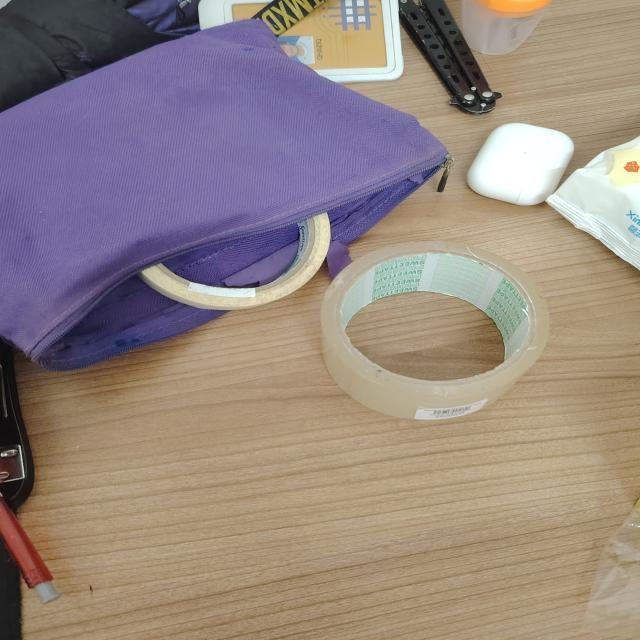pen: (0, 493, 59, 603)
sharpener: (461, 0, 551, 55)
tape: (321, 242, 549, 420), (139, 212, 330, 310)
